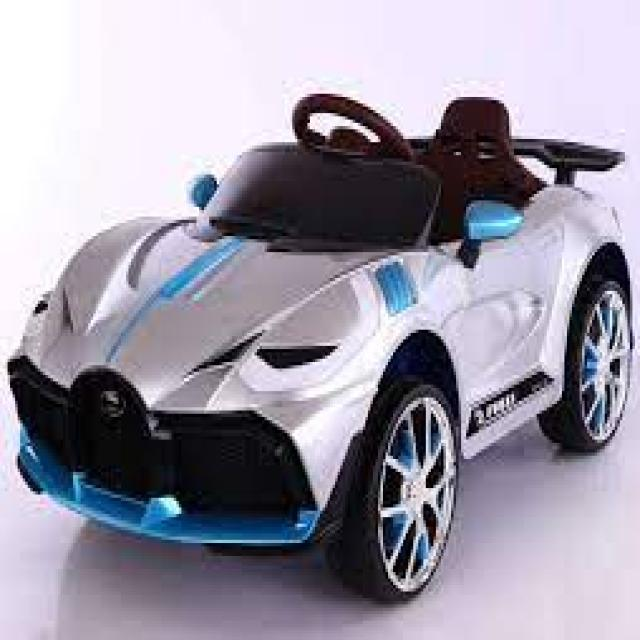Car: (5, 88, 635, 604)
